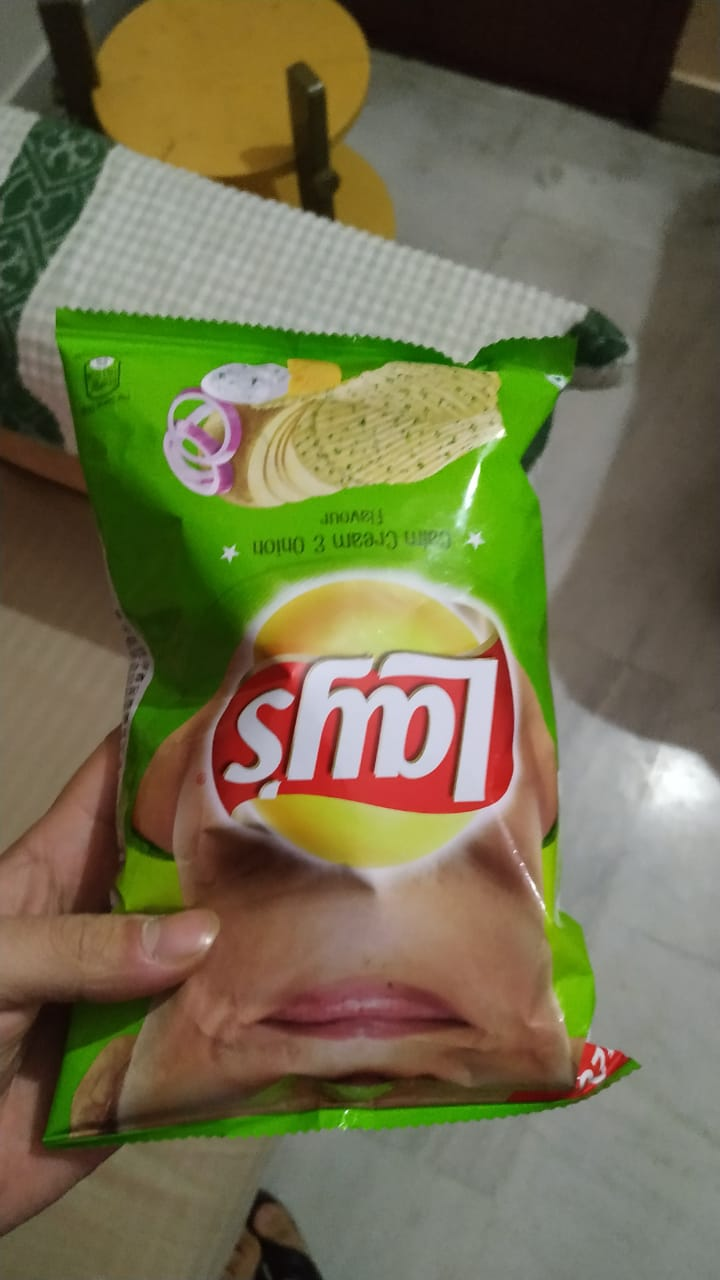lays chips: (45, 298, 643, 1149)
